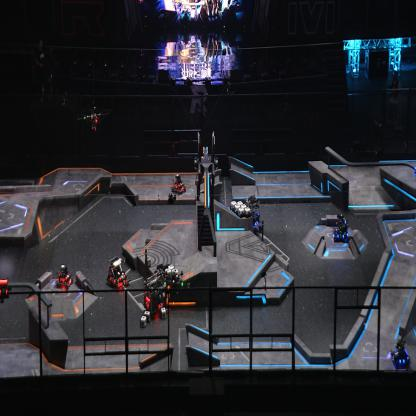car: (143, 270, 167, 319), (105, 256, 130, 292), (243, 194, 263, 234), (390, 338, 410, 370), (332, 213, 349, 243), (56, 263, 74, 290), (170, 173, 186, 194)
